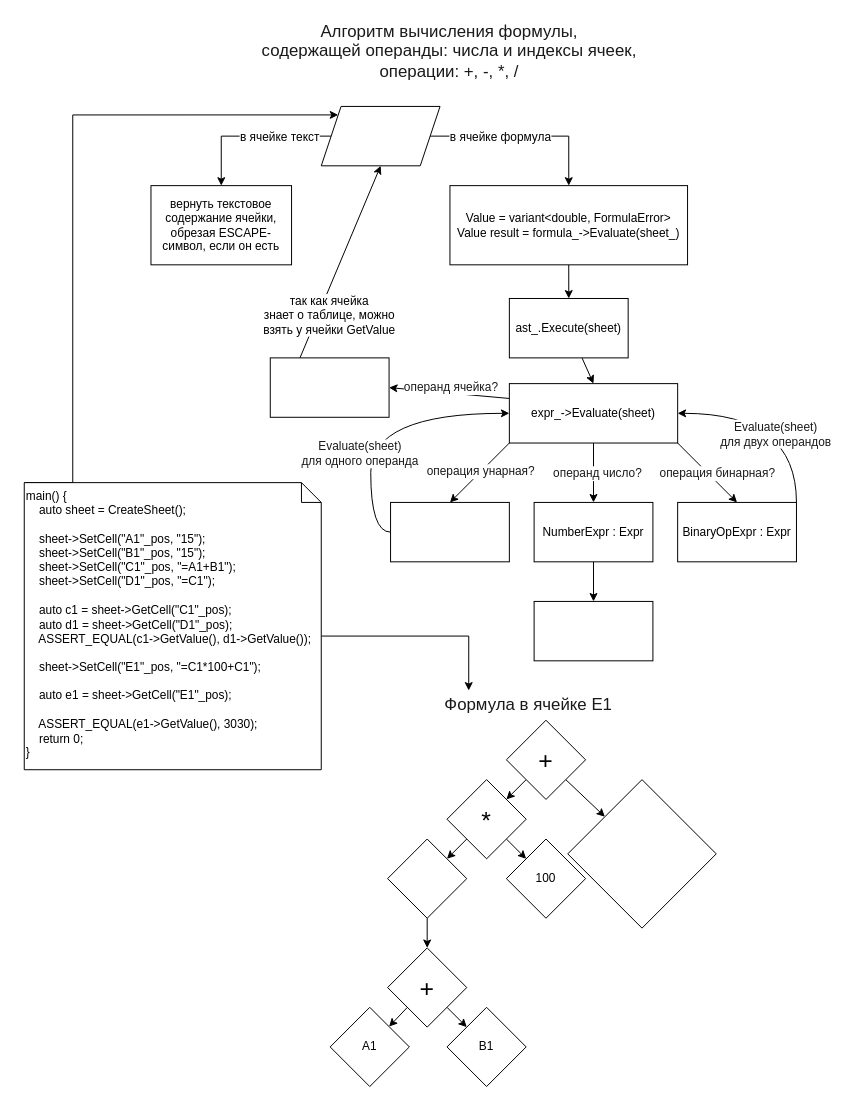
The diagram is 847 pixels wide and 1104 high, and some of its shapes have lost their labels. Each missing label, with the centre of its shape:
C1 cashed_value = 30: the point at 641,853
CellExpr : Expr: the point at 329,387
e1->GetValue(): the point at 380,135
UnaryOpExpr : Expr: the point at 449,531
Value: the point at 593,630
С1: the point at 427,878
